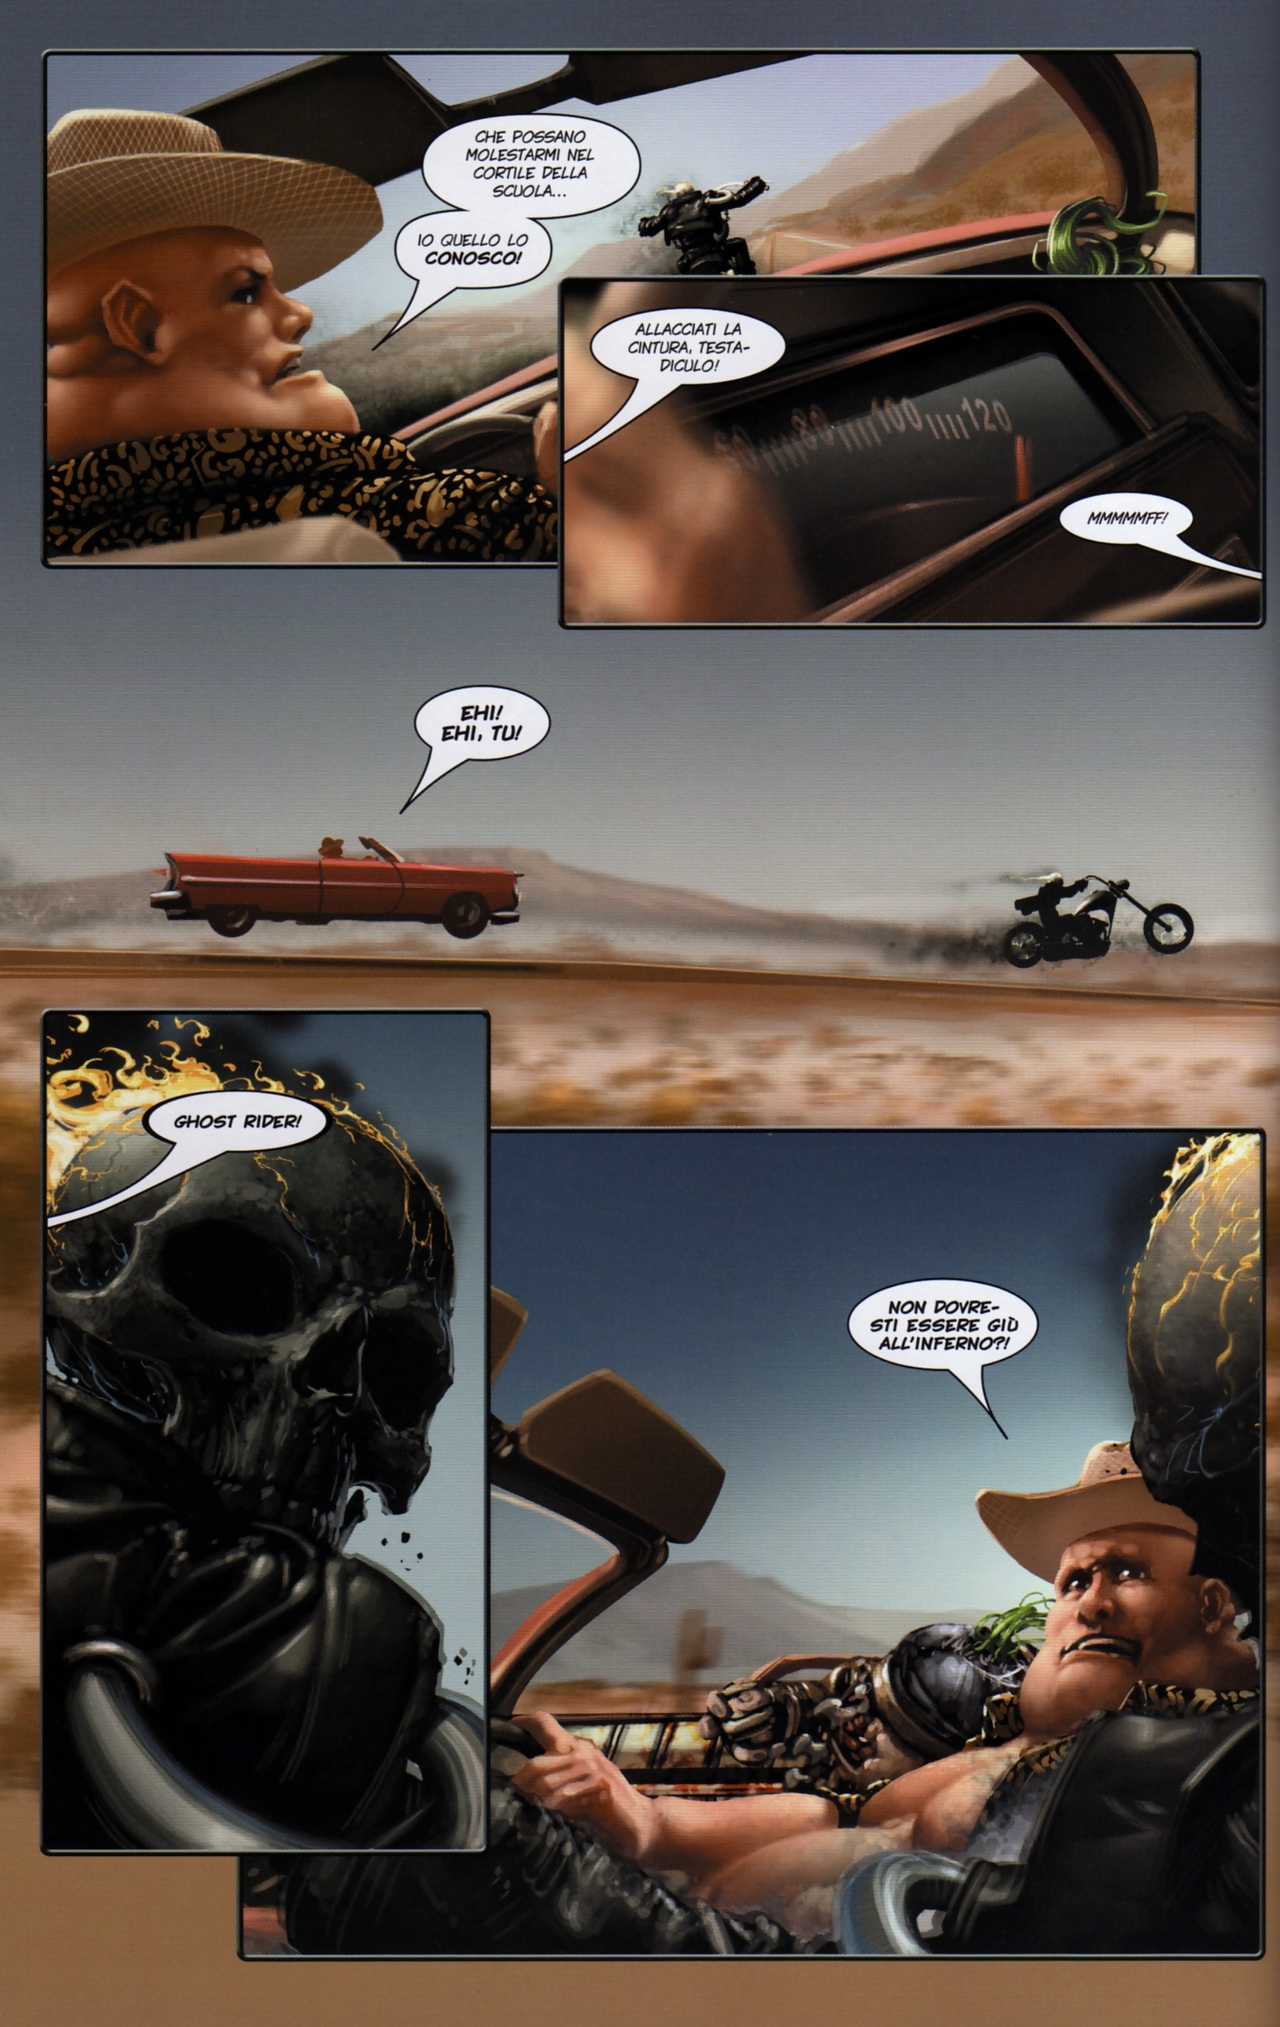Baloon: (397, 105, 644, 301), (844, 1285, 1044, 1454), (575, 301, 785, 442), (72, 1095, 329, 1204), (1060, 488, 1267, 588), (397, 683, 550, 806)
Vignetta: (4, 1, 1276, 2027), (240, 1126, 1262, 1958), (44, 49, 1200, 568), (38, 1010, 494, 1857), (560, 279, 1267, 624)
